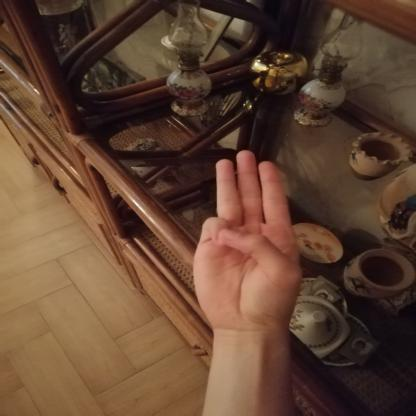THA: (178, 139, 312, 345)
